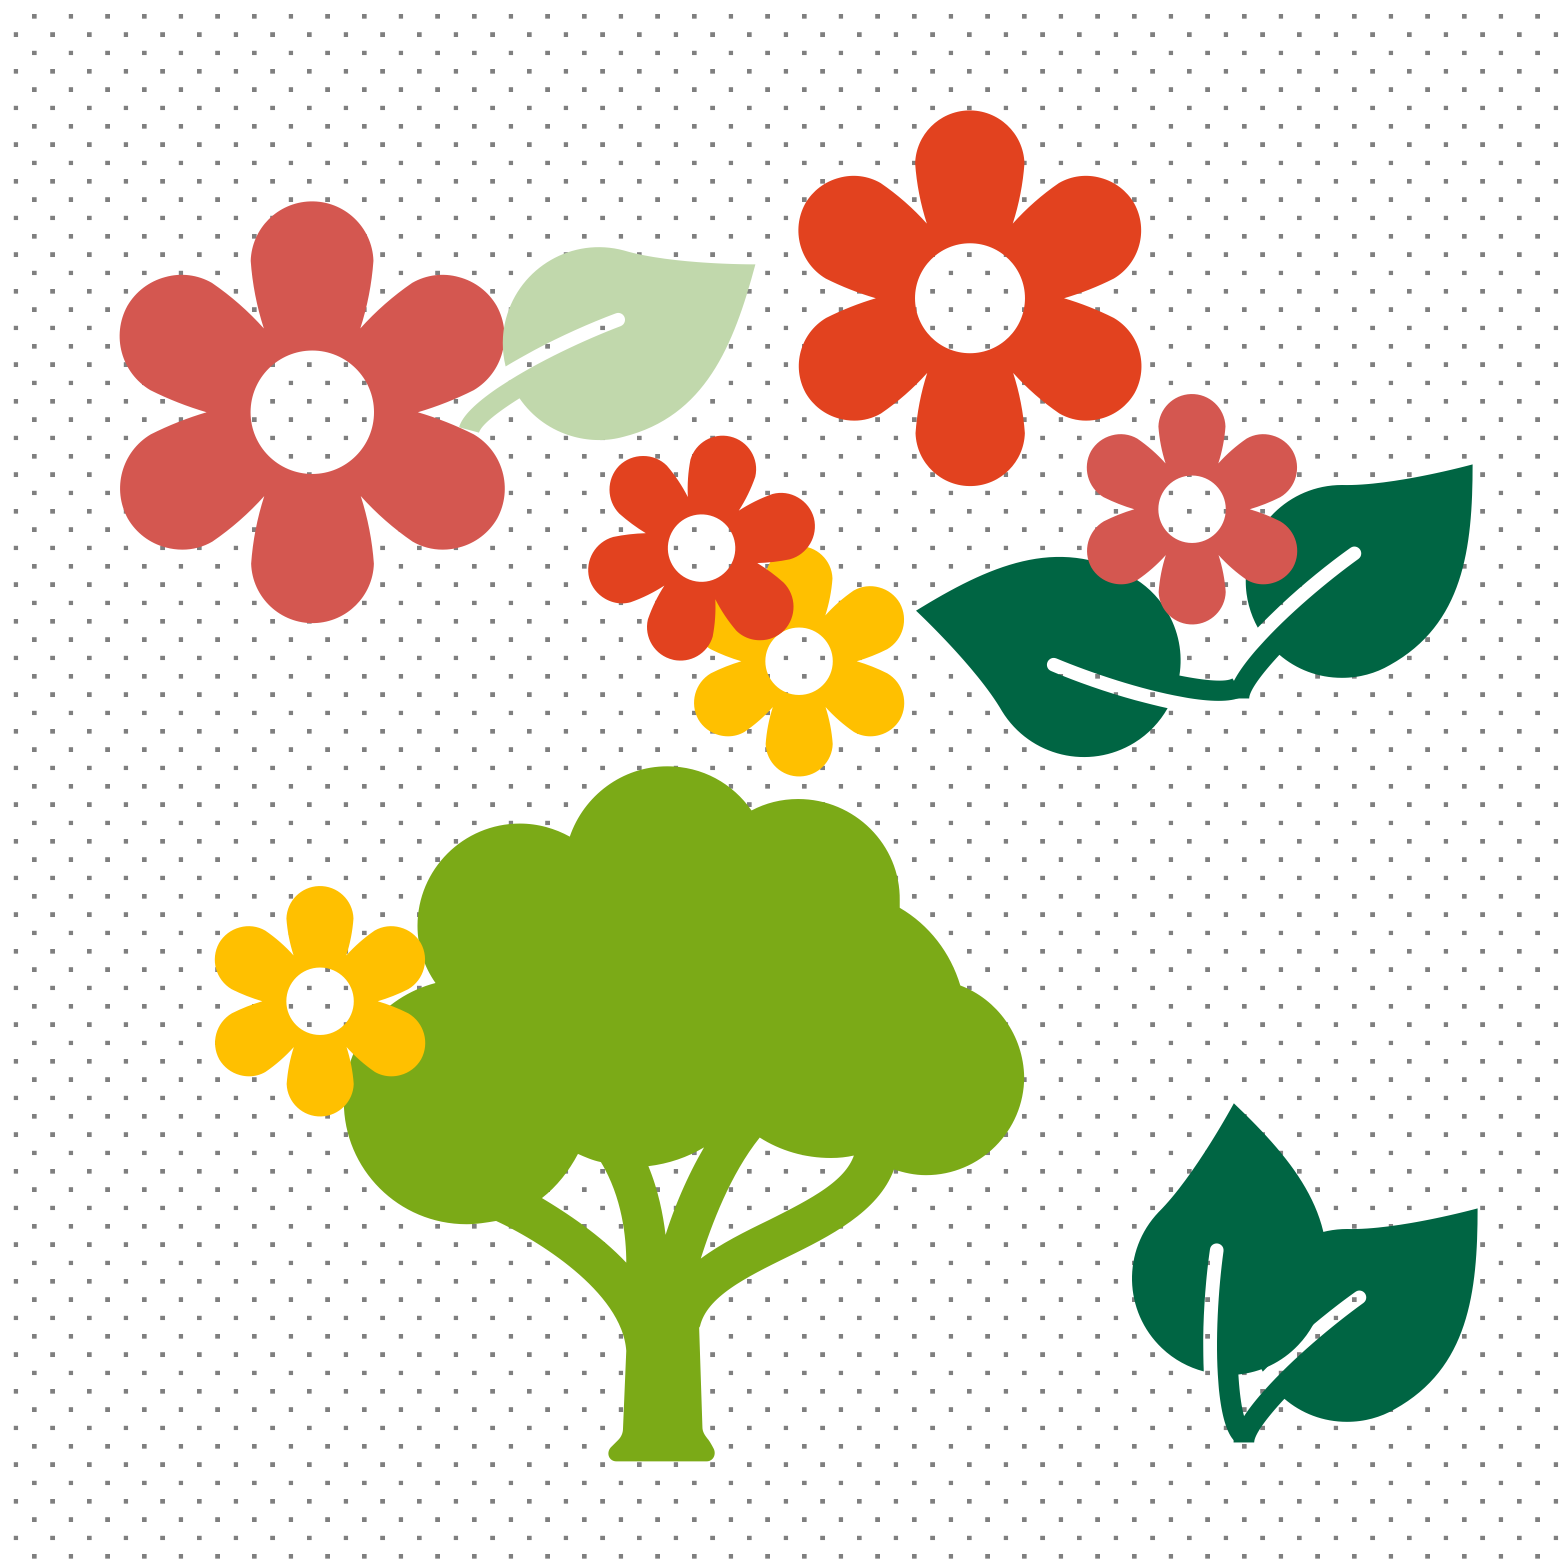flower: (103, 196, 505, 635), (787, 100, 1149, 486), (576, 428, 822, 664), (685, 536, 918, 784), (205, 883, 435, 1124), (1076, 392, 1302, 628)
leaf: (908, 551, 1243, 762), (1124, 1099, 1320, 1448), (1233, 456, 1488, 714), (453, 237, 760, 451), (1229, 1204, 1490, 1449)
tree: (332, 761, 1033, 1470)
